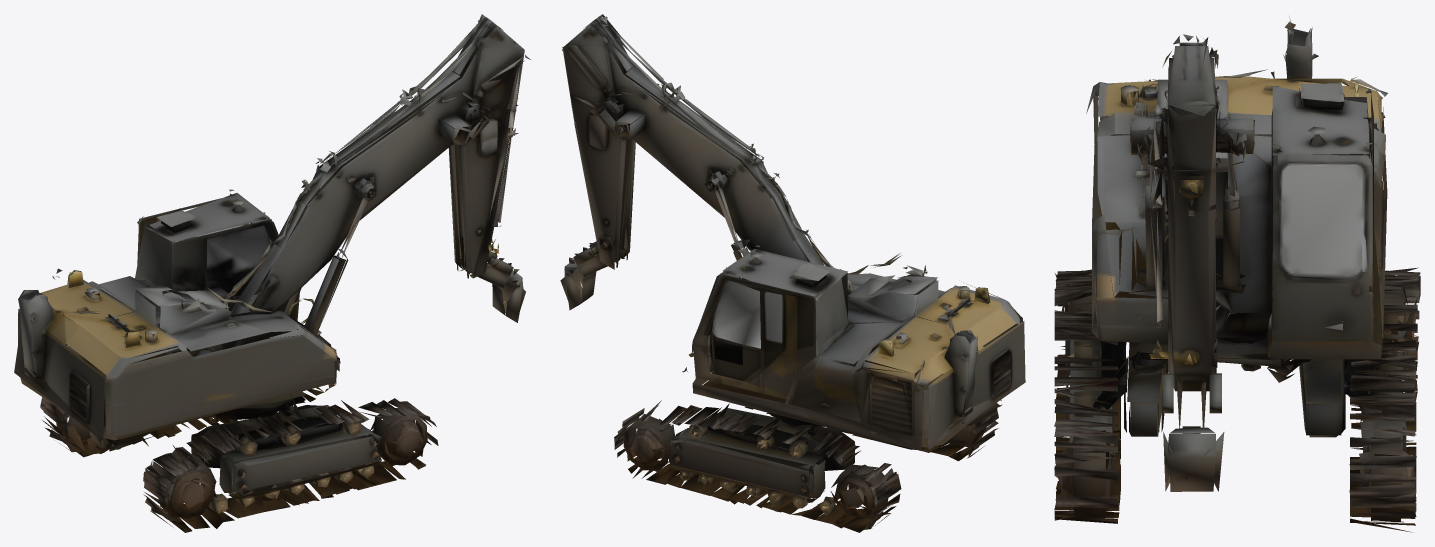
Rendered from ch5_meridian_excavation_drill_LOD2.glb.
The picture shows the model from 3 angles, left to right: view 1: azimuth 30°, elevation 25°; view 2: azimuth 150°, elevation 25°; view 3: azimuth 270°, elevation 25°; orthographic projection. The views are drawn at different scales.
Parts seen in each view (by area): view 1: tripo_node_13f6a4f9-93a8-4128-ba44-0d37c125c6b2; view 2: tripo_node_13f6a4f9-93a8-4128-ba44-0d37c125c6b2; view 3: tripo_node_13f6a4f9-93a8-4128-ba44-0d37c125c6b2.
Part boxes in pixels (x1,y1,x2,y2): tripo_node_13f6a4f9-93a8-4128-ba44-0d37c125c6b2: (14,14,530,532); tripo_node_13f6a4f9-93a8-4128-ba44-0d37c125c6b2: (560,14,1025,532); tripo_node_13f6a4f9-93a8-4128-ba44-0d37c125c6b2: (1054,16,1420,532).
Bounding box in the file's own units: 0.9991 × 0.8307 × 0.4756.
1 material, 1 textured.
